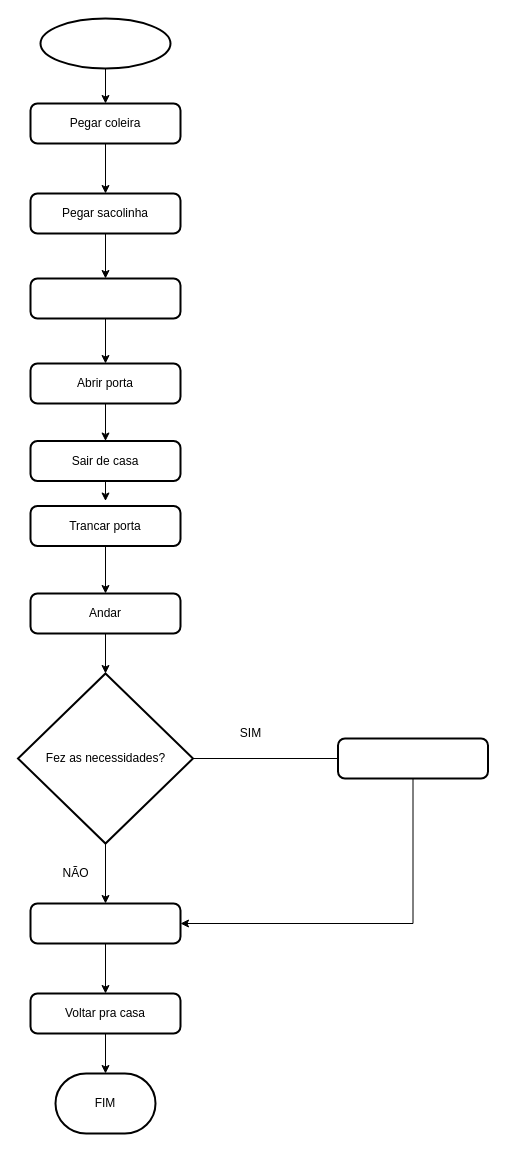
Some shapes in this 506 by 1151 pixel diagram are drawn without their labels. Here are the shapes that lost their labels. From the top down, the centre of each, then its label:
At point (105, 43): "Inicio".
At point (105, 298): "Colocar coleira no animal".
At point (412, 758): "Colocar na sacolinha".
At point (105, 923): "Continuar passeio".
